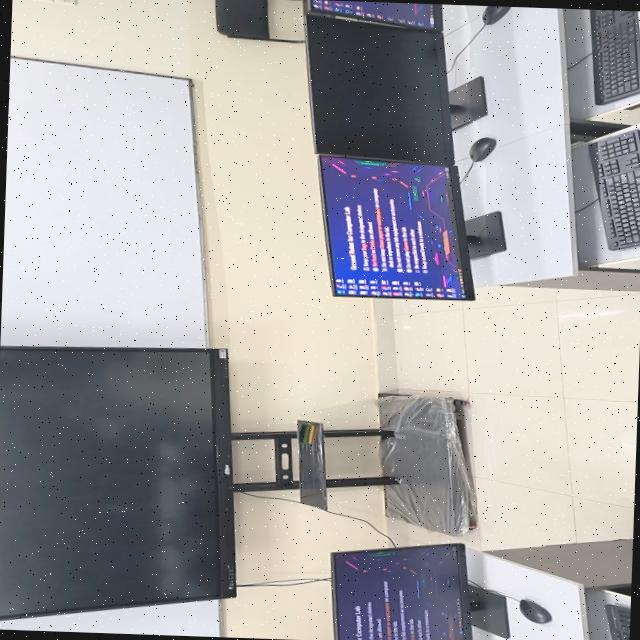Chair: (213, 0, 302, 43)
Digital board: (0, 346, 265, 620)
Keyboard: (587, 129, 640, 250), (589, 9, 640, 105), (604, 604, 630, 640)
Monitor: (304, 11, 452, 166), (317, 156, 471, 300), (330, 544, 470, 640), (306, 0, 439, 28)
Mouse: (518, 599, 550, 624), (468, 137, 494, 162), (480, 6, 508, 25)
